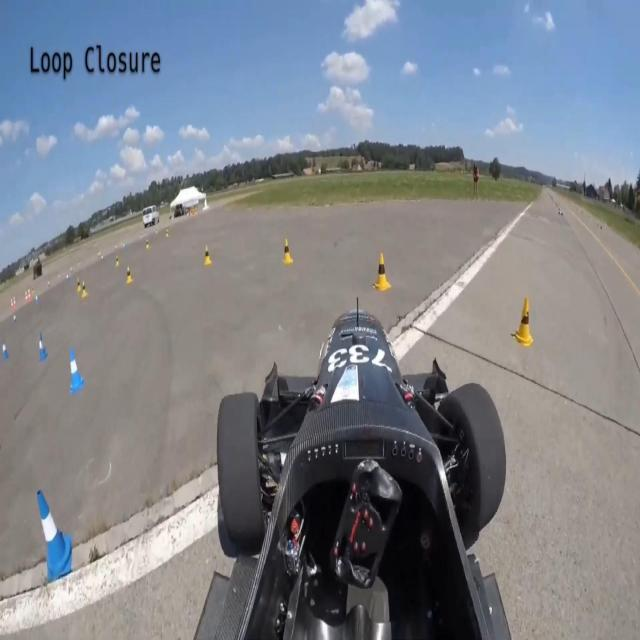blue_cone: (36, 489, 72, 579), (66, 347, 85, 396), (38, 333, 48, 362), (2, 341, 9, 360)
large_orange_cone: (13, 296, 16, 310), (10, 297, 13, 310), (28, 287, 31, 300), (25, 290, 28, 302)
yellow_cone: (513, 293, 534, 349), (372, 250, 392, 294), (283, 238, 294, 267), (204, 244, 212, 267), (125, 266, 133, 284), (81, 280, 87, 299), (76, 276, 81, 292), (114, 255, 120, 268)
